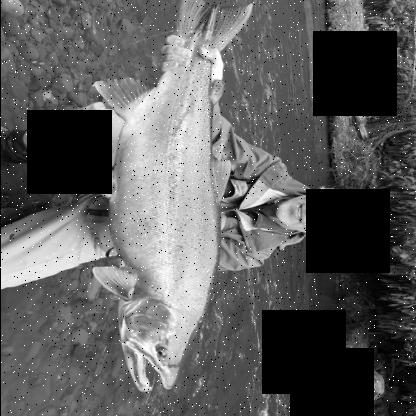fish: (75, 0, 258, 392)
